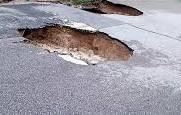pothole: (15, 22, 138, 66), (45, 0, 142, 18)
